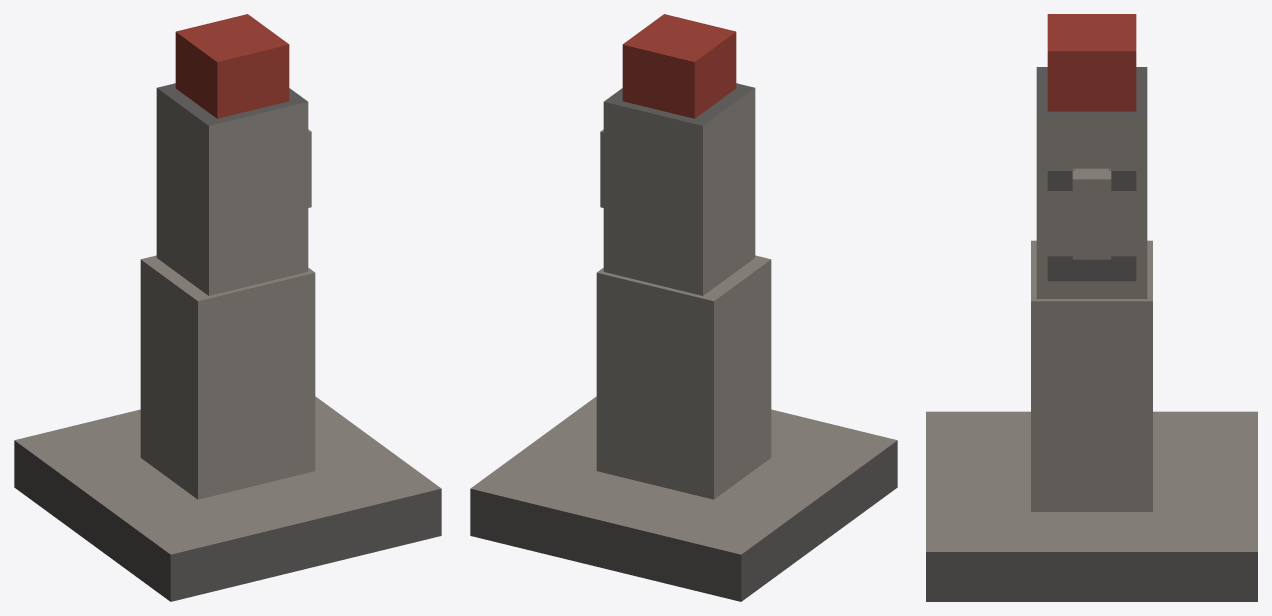
The model's file is moai.obj.
The picture shows the model from 3 angles, left to right: view 1: azimuth 30°, elevation 25°; view 2: azimuth 150°, elevation 25°; view 3: azimuth 270°, elevation 25°; orthographic projection. The views are drawn at different scales.
Visible parts, largest first — view 1: moai; view 2: moai; view 3: moai.
Boxes of the visible parts, x1,y1,x2,y2 form: moai: (14, 14, 441, 601); moai: (470, 14, 897, 601); moai: (926, 14, 1257, 601).
Size of the model in its own units: 6 by 10 by 6.
